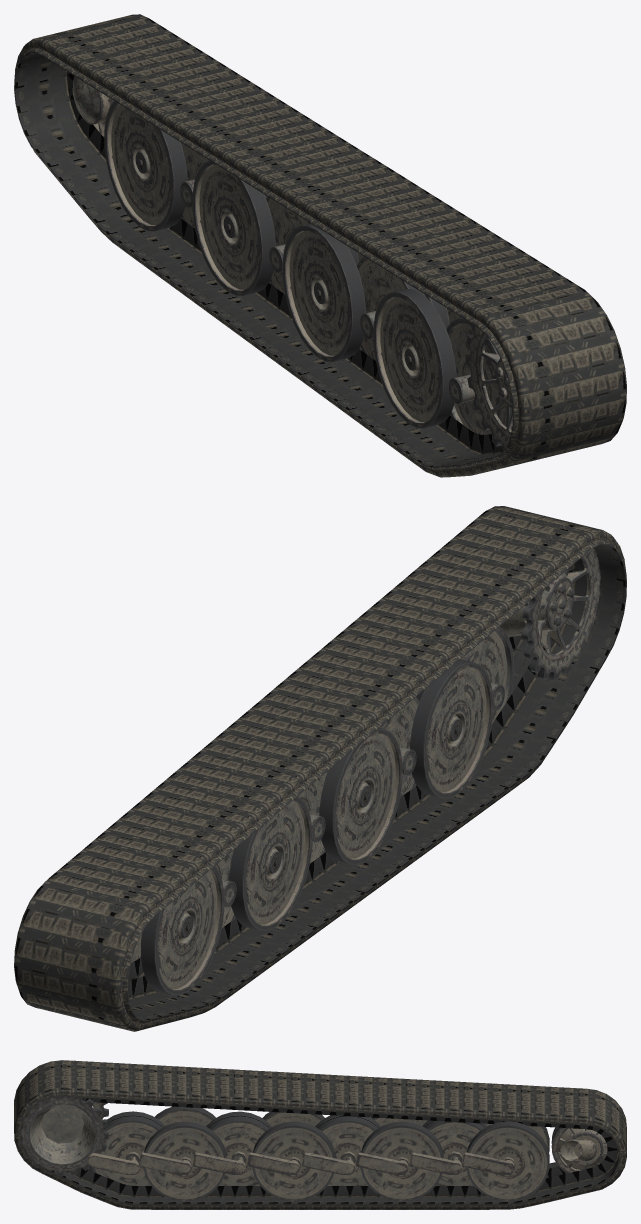
Rendered from Tiger I_TrackRight.fbx.
3 views of the same model, one above another, from view 1: azimuth 30°, elevation 25°; view 2: azimuth 150°, elevation 25°; view 3: azimuth 270°, elevation 25° (orthographic). The views are drawn at different scales.
Parts seen in each view (by area): view 1: german\G04_PzVI_Tiger_I\normal\l\Chassis.pri~7~3, german\G04_PzVI_Tiger_I\normal\l\Chassis.pri~7~2, german\G04_PzVI_Tiger_I\normal\l\Chassis.pri~7~4; view 2: german\G04_PzVI_Tiger_I\normal\l\Chassis.pri~7~3, german\G04_PzVI_Tiger_I\normal\l\Chassis.pri~7~2, german\G04_PzVI_Tiger_I\normal\l\Chassis.pri~7~4; view 3: german\G04_PzVI_Tiger_I\normal\l\Chassis.pri~7~2, german\G04_PzVI_Tiger_I\normal\l\Chassis.pri~7~3, german\G04_PzVI_Tiger_I\normal\l\Chassis.pri~7~4.
Part boxes in pixels (x1,y1,x2,y2): german\G04_PzVI_Tiger_I\normal\l\Chassis.pri~7~3: (14,14,626,477); german\G04_PzVI_Tiger_I\normal\l\Chassis.pri~7~2: (72,76,512,450); german\G04_PzVI_Tiger_I\normal\l\Chassis.pri~7~4: (359,215,584,327); german\G04_PzVI_Tiger_I\normal\l\Chassis.pri~7~3: (14,506,626,1031); german\G04_PzVI_Tiger_I\normal\l\Chassis.pri~7~2: (131,548,600,995); german\G04_PzVI_Tiger_I\normal\l\Chassis.pri~7~4: (366,511,591,648); german\G04_PzVI_Tiger_I\normal\l\Chassis.pri~7~2: (17,1092,607,1201); german\G04_PzVI_Tiger_I\normal\l\Chassis.pri~7~3: (14,1060,626,1209); german\G04_PzVI_Tiger_I\normal\l\Chassis.pri~7~4: (62,1060,206,1108).
Size of the model in its own units: 0.814 by 1.27 by 5.86.
2 materials, 2 textured.
